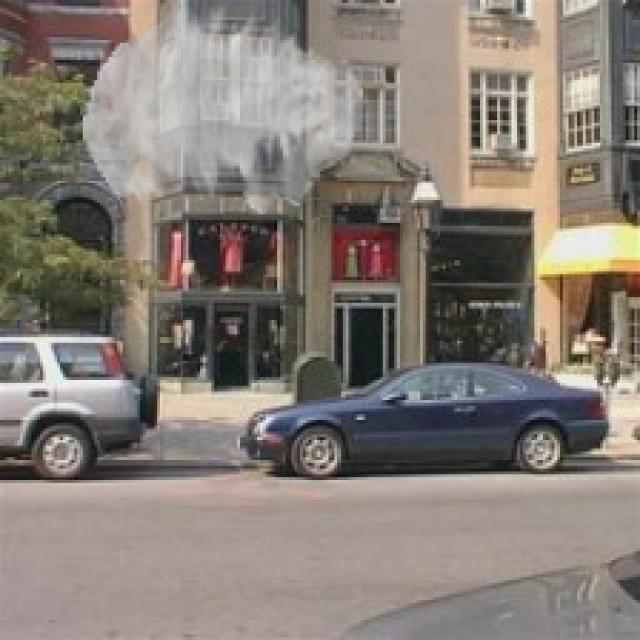Smoke: (83, 3, 363, 214)
